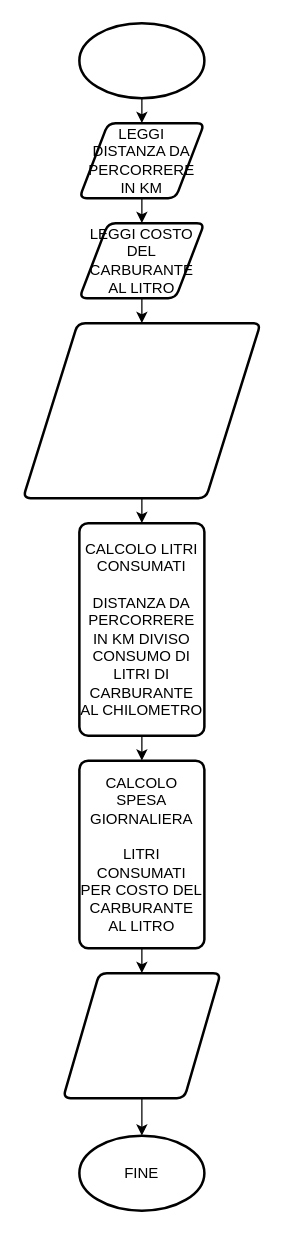
The diagram is 283 pixels wide and 1233 high, and some of its shapes have lost their labels. The centre of each missing label's shape, as x and y in pixels:
INIZIO: (x=141, y=60)
LEGGI CONSUMO DI LITRI DI CARBURANTE AL CHILOMETRO: (x=141, y=410)
MOSTRA SPESA GIORNALIERA: (x=141, y=1035)
